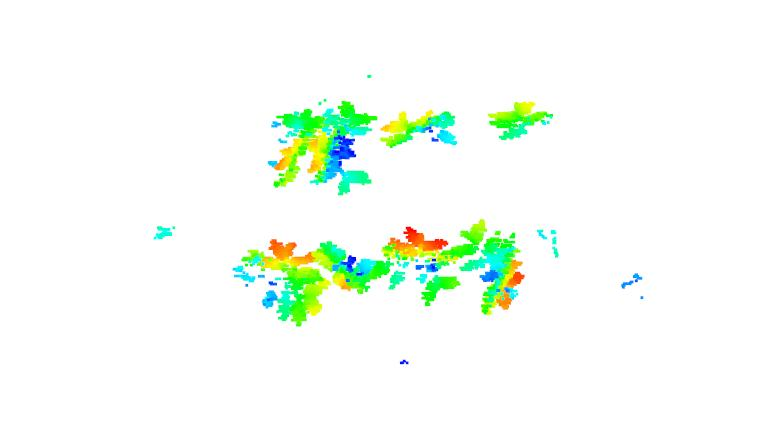chickpea: (449, 223, 558, 315), (227, 238, 329, 331), (309, 224, 395, 299), (382, 223, 457, 308), (320, 97, 381, 198), (269, 110, 331, 196), (381, 103, 459, 155), (485, 98, 557, 146)
